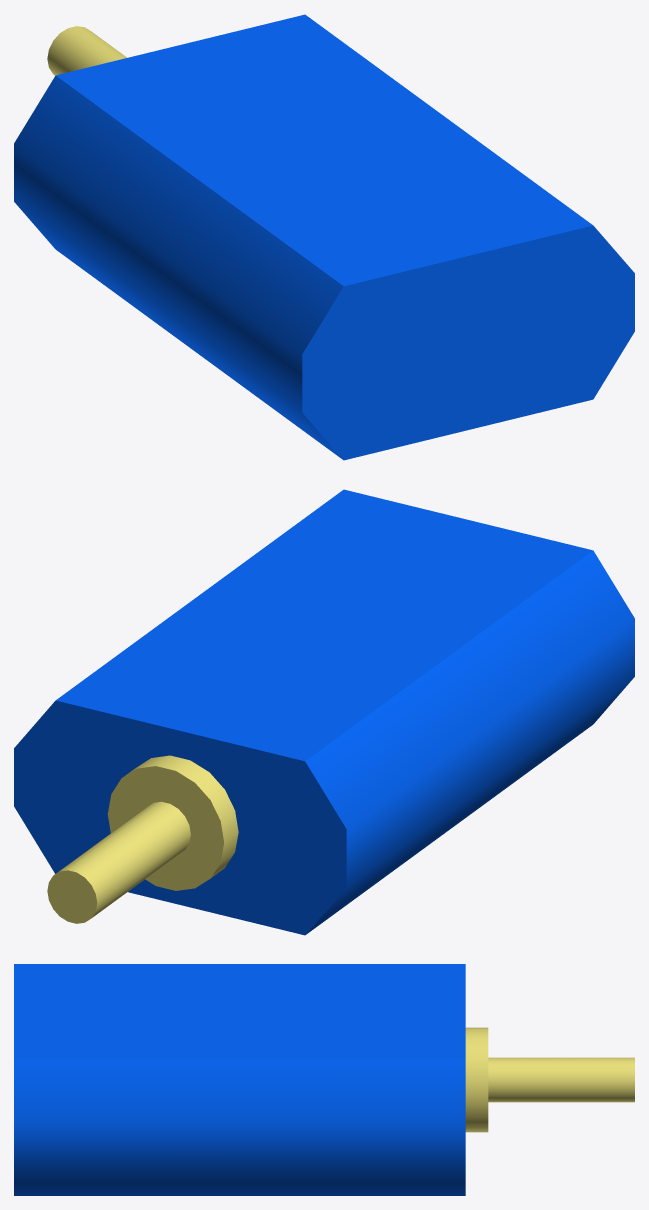
File: Motor.FBX
3 views of the same model, one above another, from view 1: azimuth 30°, elevation 25°; view 2: azimuth 150°, elevation 25°; view 3: azimuth 270°, elevation 25° (orthographic). The views are drawn at different scales.
Visible parts, largest first — view 1: Box001, Cylinder002; view 2: Box001, Cylinder001, Cylinder002; view 3: Box001, Cylinder002, Cylinder001.
Boxes of the visible parts, x1,y1,x2,y2 form: Box001: [14, 14, 634, 460]; Cylinder002: [47, 26, 126, 75]; Box001: [14, 489, 634, 935]; Cylinder001: [107, 755, 238, 890]; Cylinder002: [47, 801, 190, 923]; Box001: [14, 964, 465, 1195]; Cylinder002: [488, 1057, 634, 1102]; Cylinder001: [465, 1027, 488, 1132].
Size of the model in its own units: 40 by 20 by 82.5.
